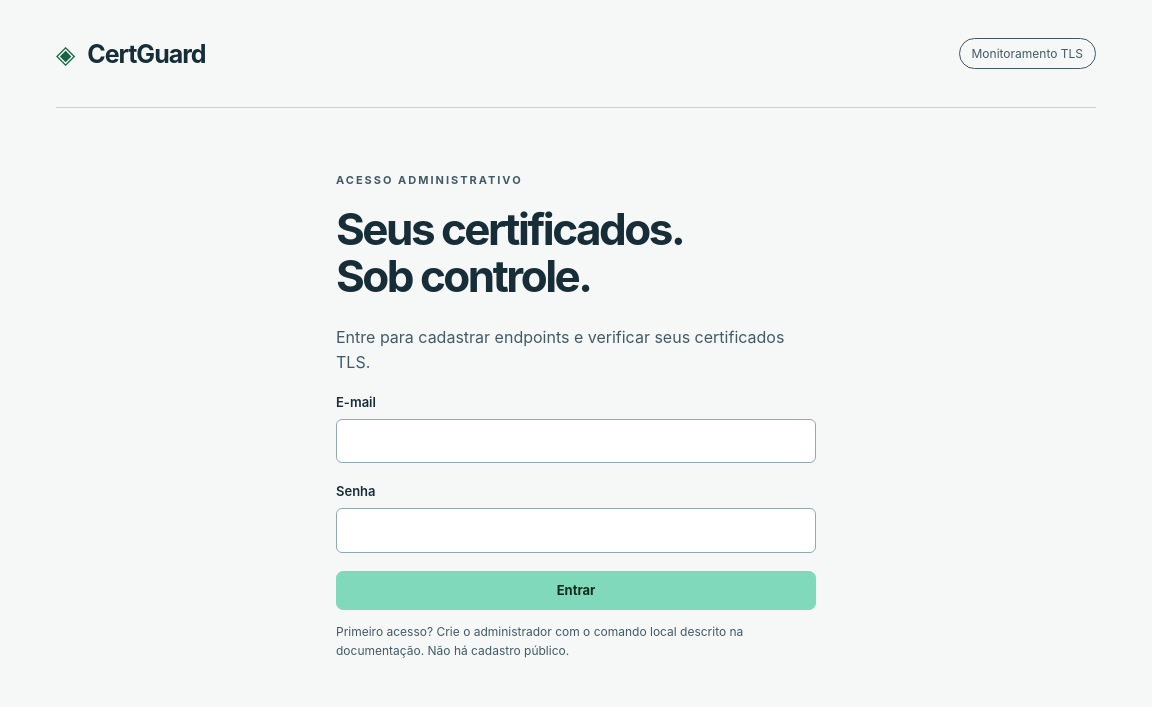
Test case: mostra login sem sessão e comunica credenciais inválidas
Expected: the button "Entrar" is shown, [336,571,816,610]
Type "admin@example.com" into the field labelled "E-mail" at (576, 441), box [336,419,816,463]
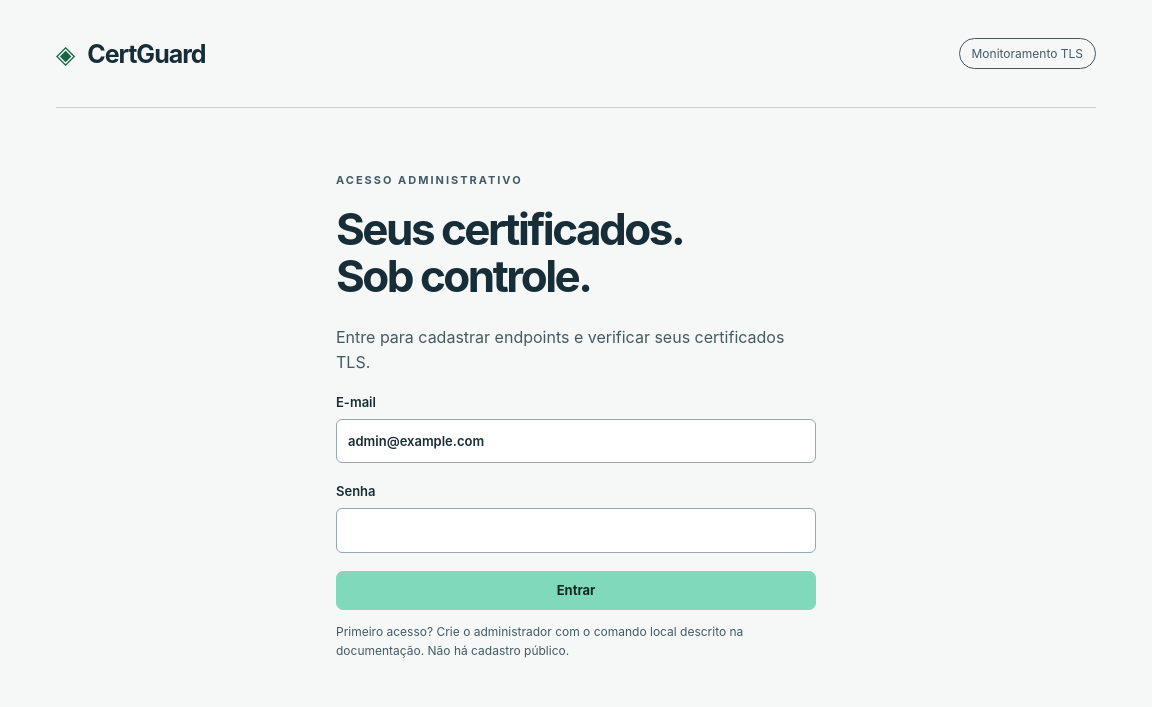
Type "errada" into the password field labelled "Senha" at (576, 531), box [336,508,816,553]
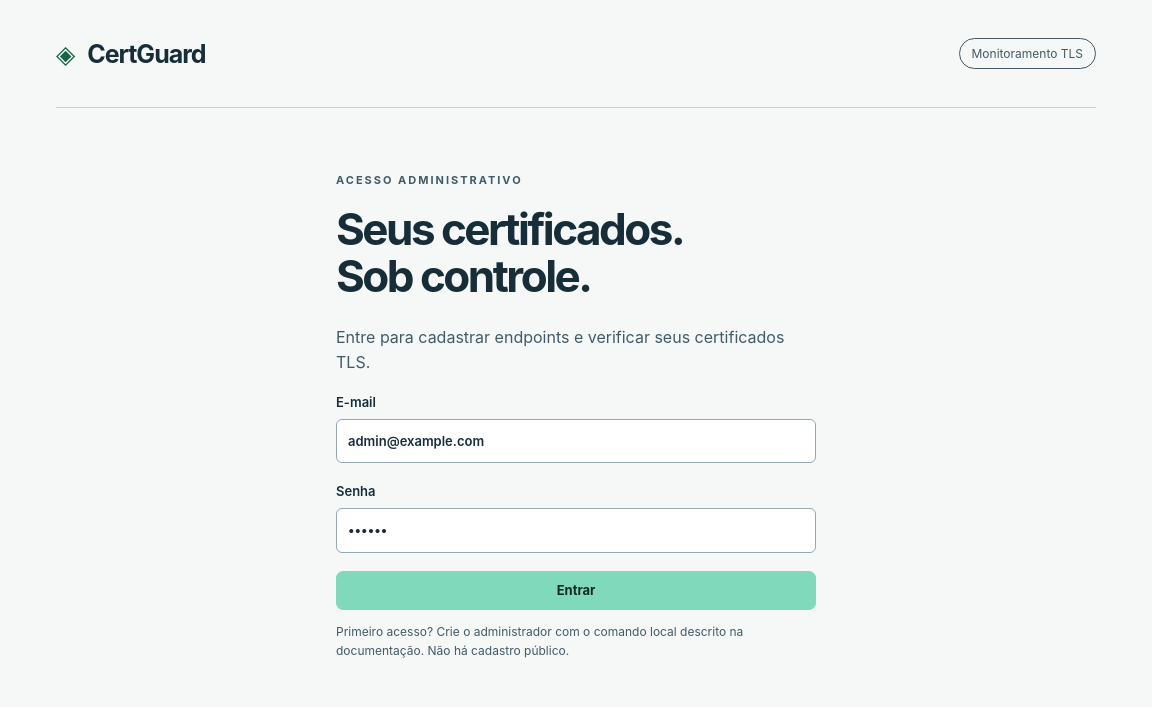
Click the button "Entrar" at (576, 590), box [336,571,816,610]
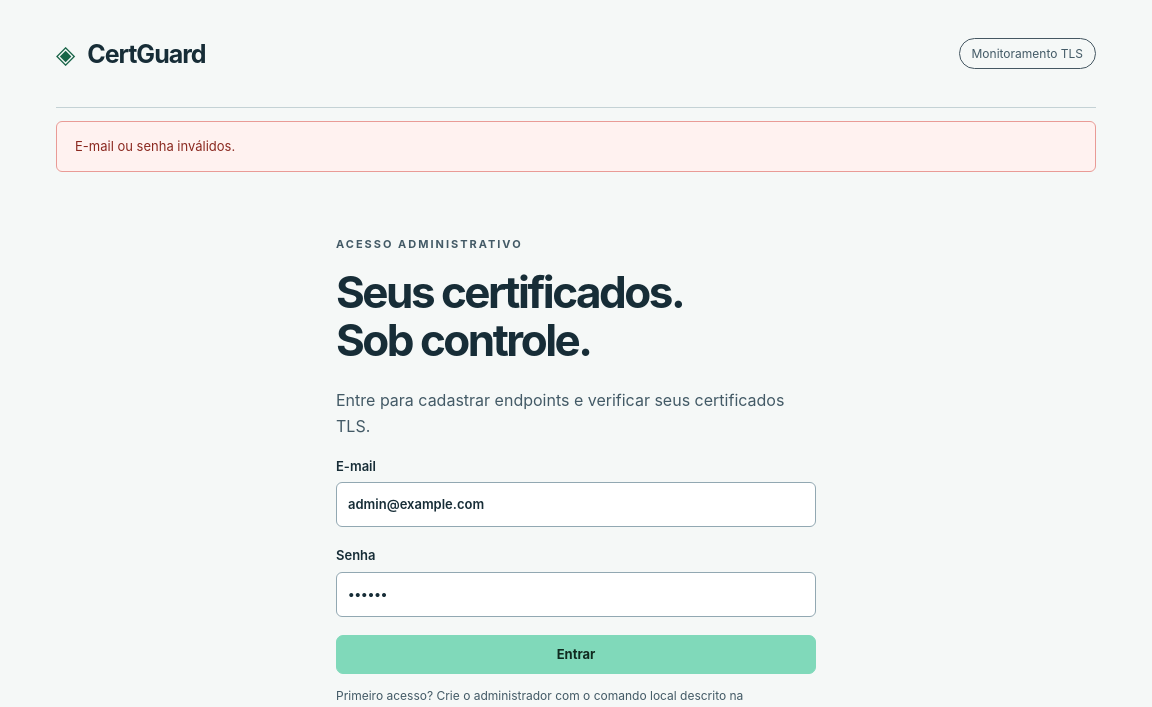
Now the message shows "E-mail ou senha inválidos", box [75,138,235,154]
